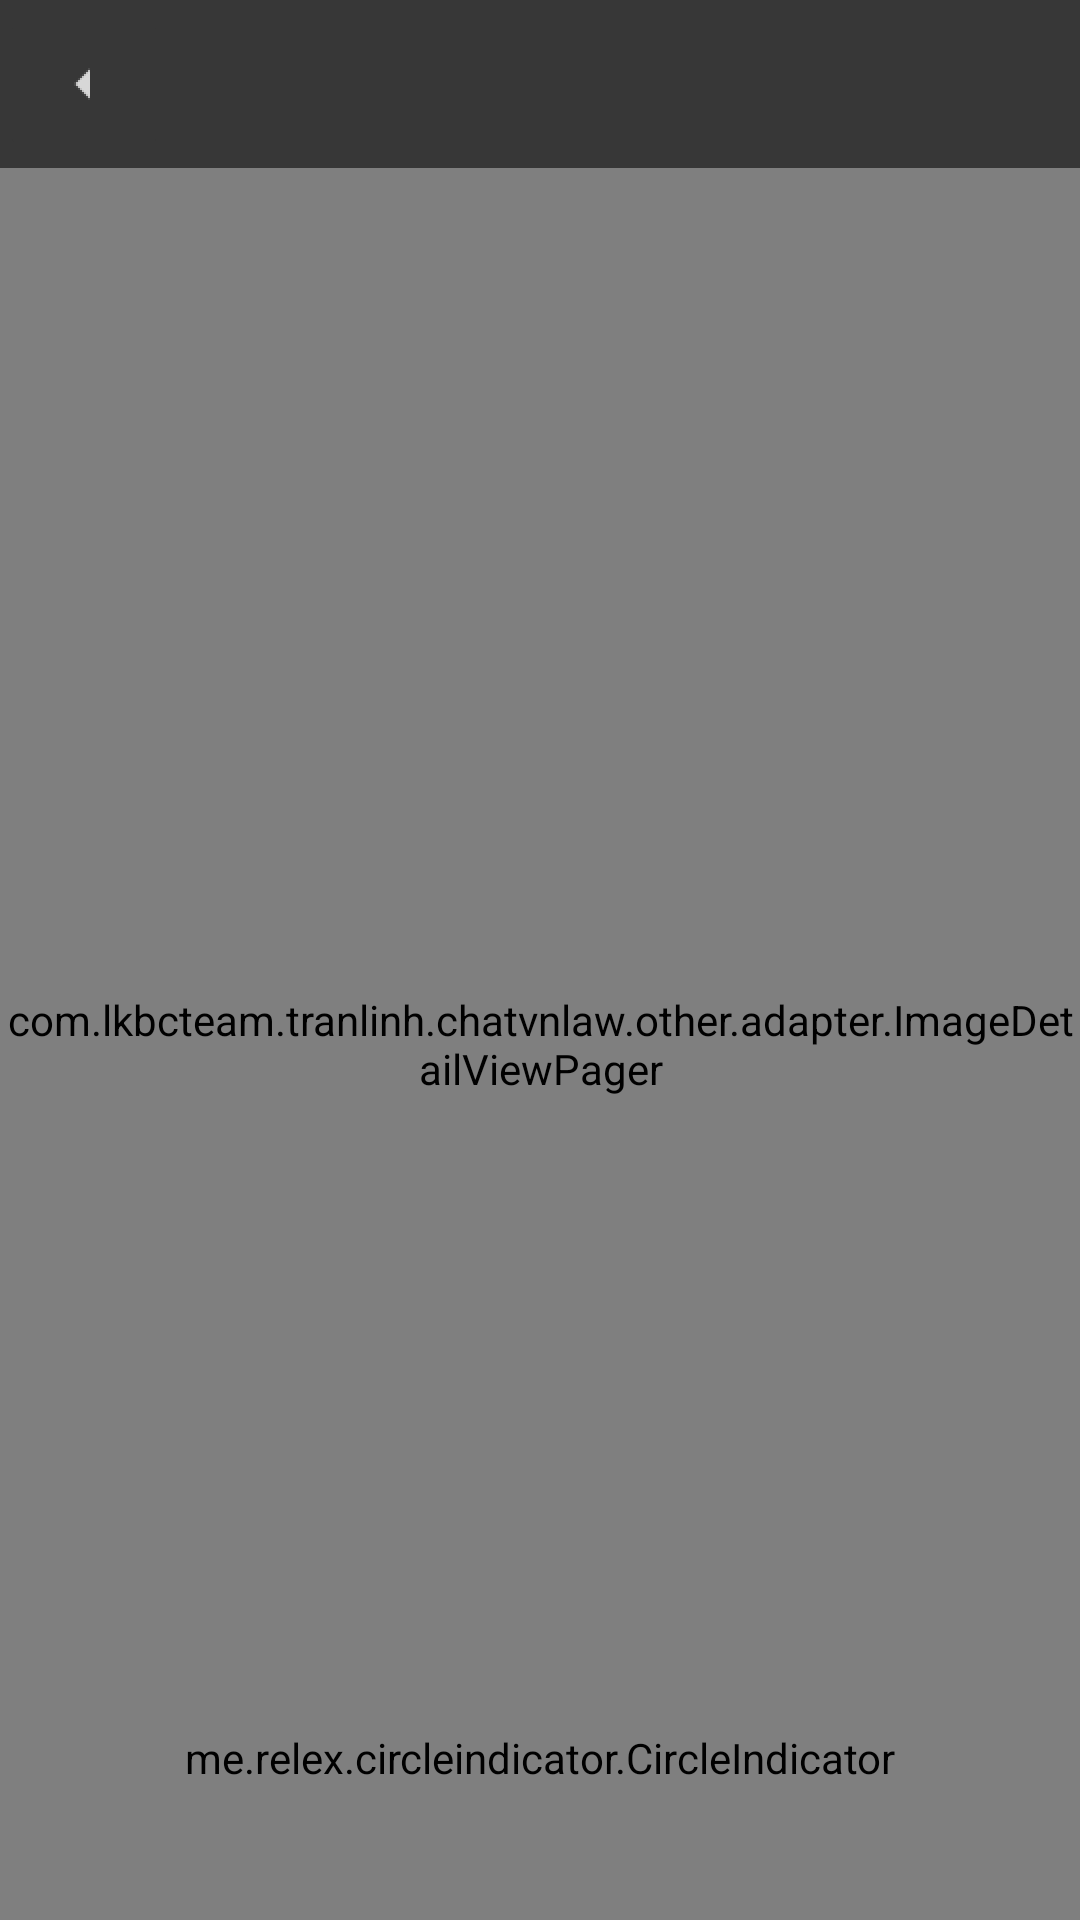

Where to tap for icons on this 1080x1920 app screen, as (x=x, y=y):
left: (x=83, y=84)
